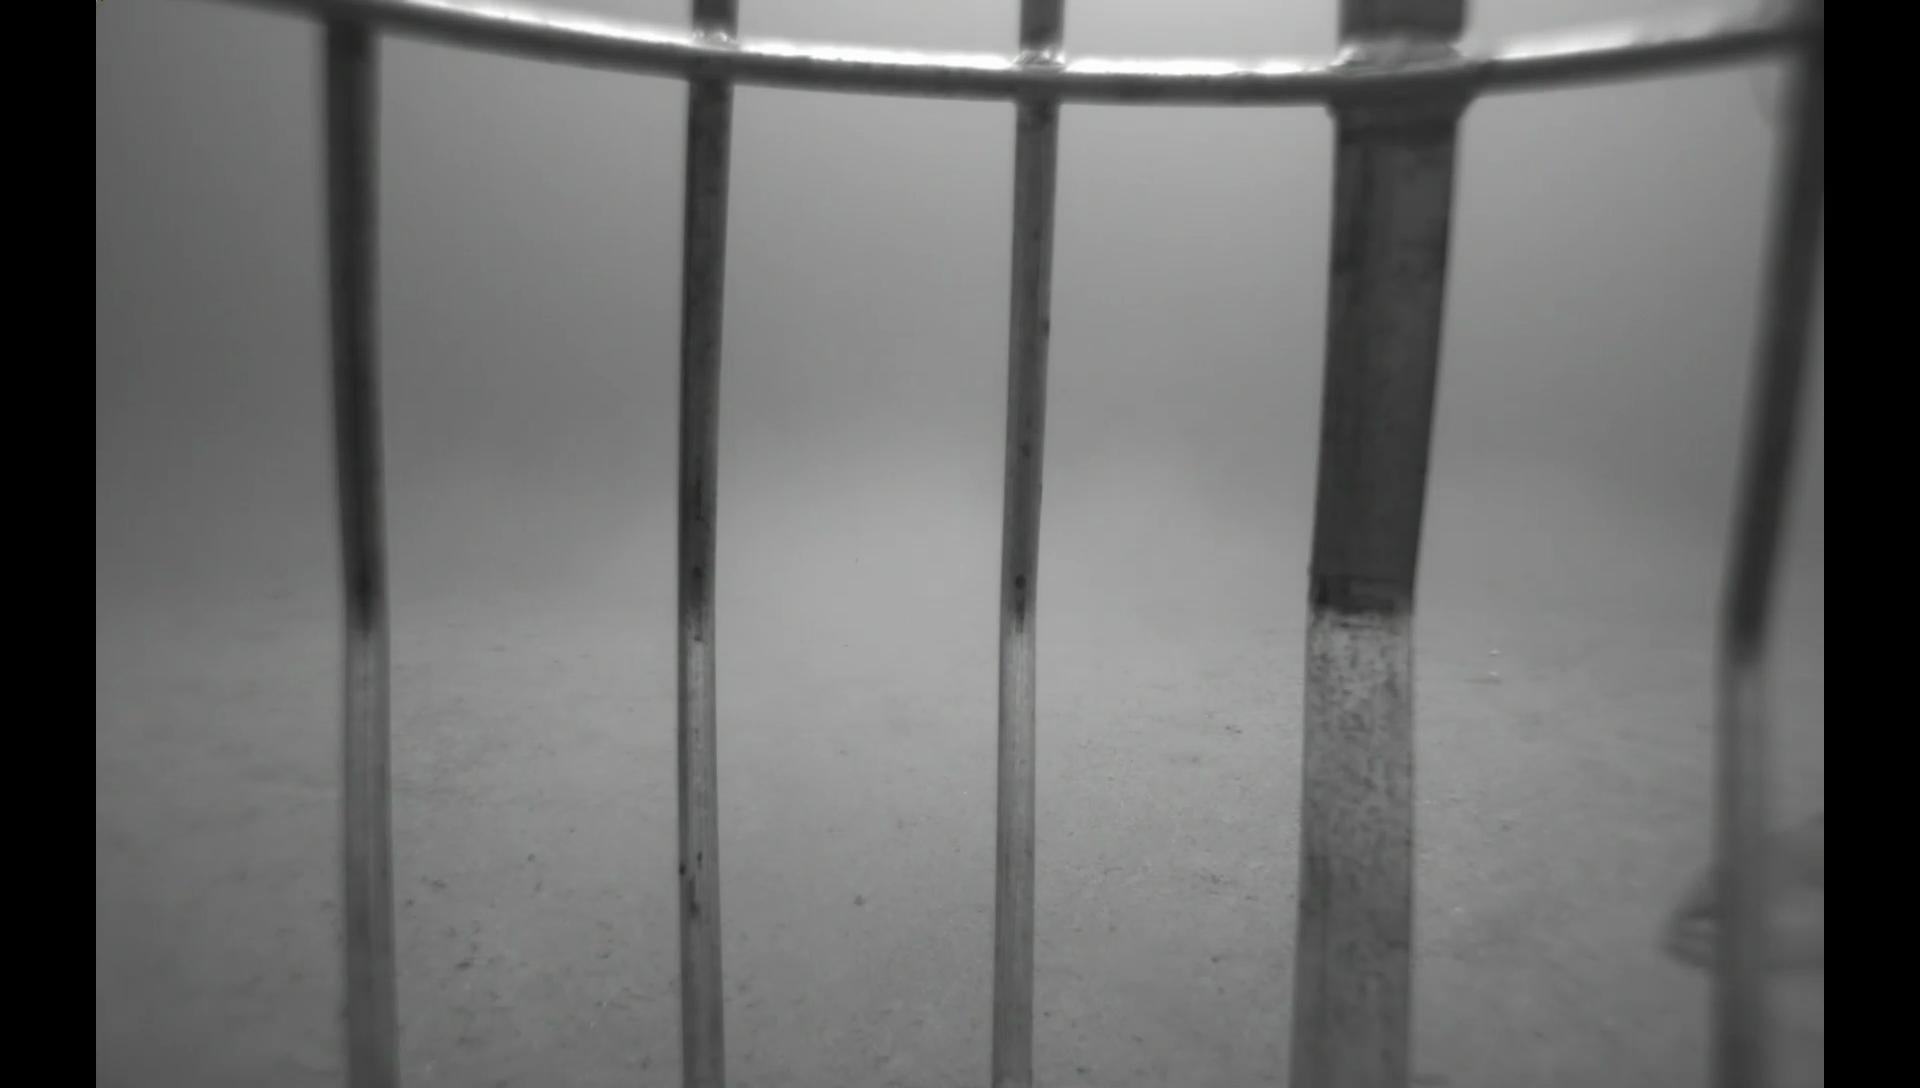CAULOLATILUSCYANOPS-170070101: (1643, 797, 1829, 992)
SYACIUM-183011000: (1141, 699, 1247, 742)
